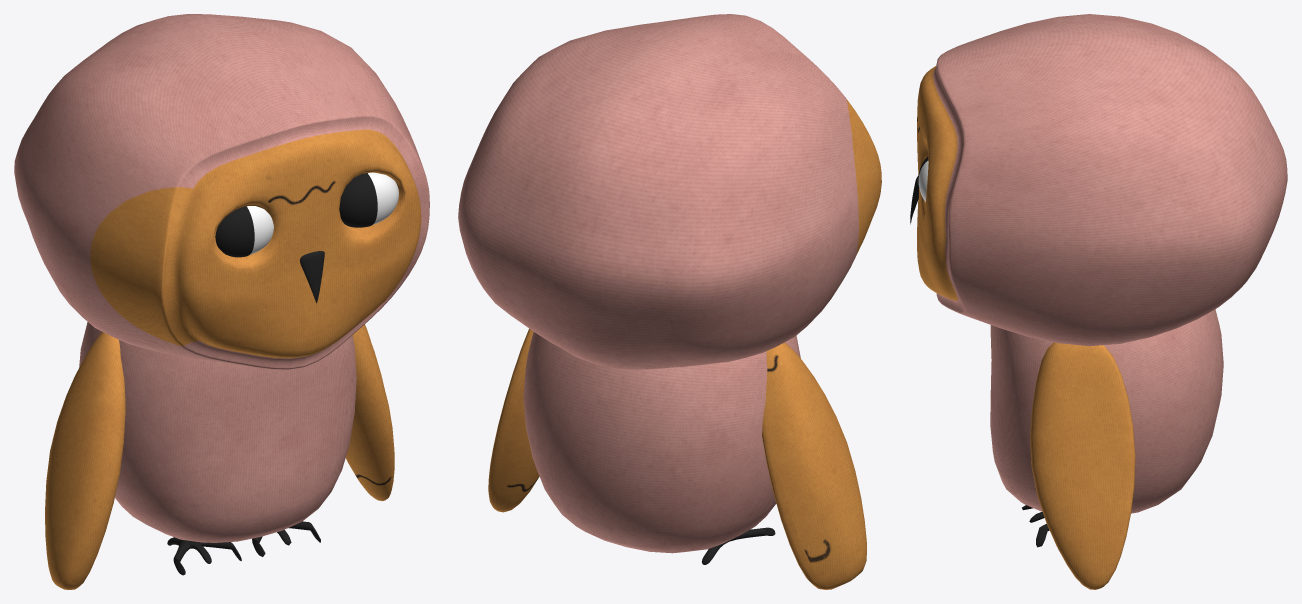
Rendered from owl.fbx.
The picture shows the model from 3 angles, left to right: view 1: azimuth 30°, elevation 25°; view 2: azimuth 150°, elevation 25°; view 3: azimuth 270°, elevation 25°; orthographic projection. The views are drawn at different scales.
Parts seen in each view (by area): view 1: head, body, wing1, wing2, eye2, eye1, feet1, beak; view 2: head, body, wing1, wing2; view 3: head, body, wing2.
Part boxes in pixels (box(x1,y1,x2,y2)): head: box(14, 14, 429, 369); body: box(79, 322, 356, 542); wing1: box(45, 332, 125, 589); wing2: box(345, 324, 394, 501); eye2: box(339, 172, 398, 227); eye1: box(215, 206, 273, 257); feet1: box(167, 537, 241, 575); beak: box(300, 251, 324, 303); head: box(458, 14, 881, 369); body: box(523, 332, 800, 553); wing1: box(762, 342, 866, 589); wing2: box(488, 328, 539, 512); head: box(917, 14, 1287, 346); body: box(990, 309, 1223, 513); wing2: box(1030, 342, 1135, 589).
Bounding box in the file's own units: 3.24 × 4.47 × 3.19.
